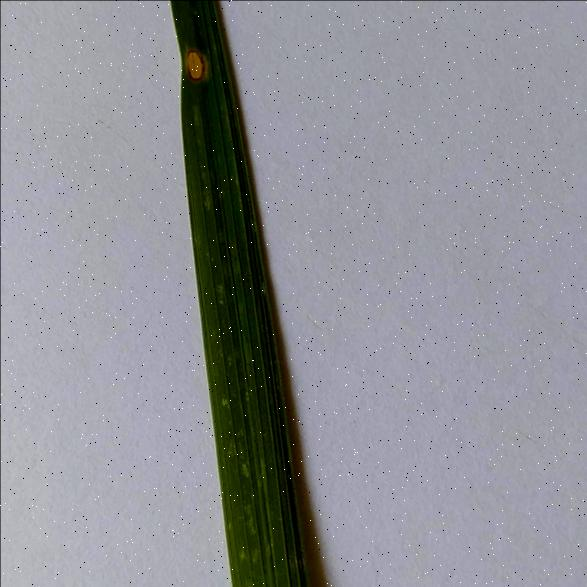Leaf_smut: (172, 34, 208, 82)
